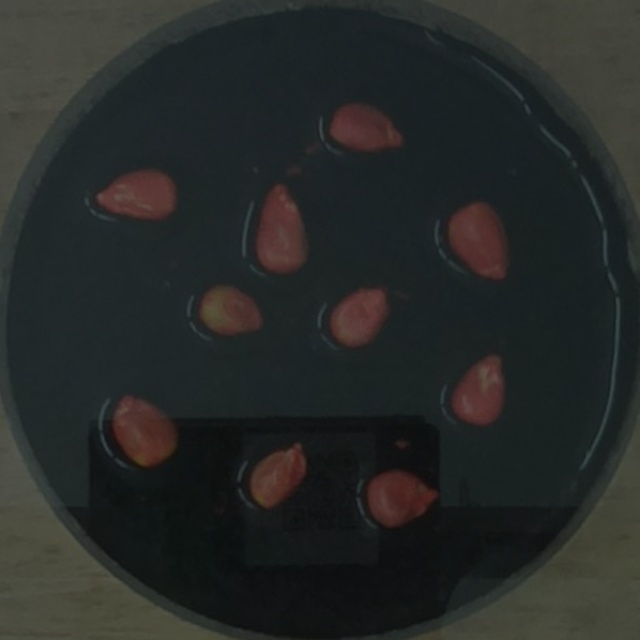Zea mays: (439, 191, 520, 287), (103, 387, 187, 476), (246, 174, 315, 281), (321, 271, 401, 356), (358, 460, 447, 536), (443, 341, 517, 432), (85, 158, 184, 226), (239, 430, 315, 516), (322, 94, 412, 161), (189, 275, 270, 343)
